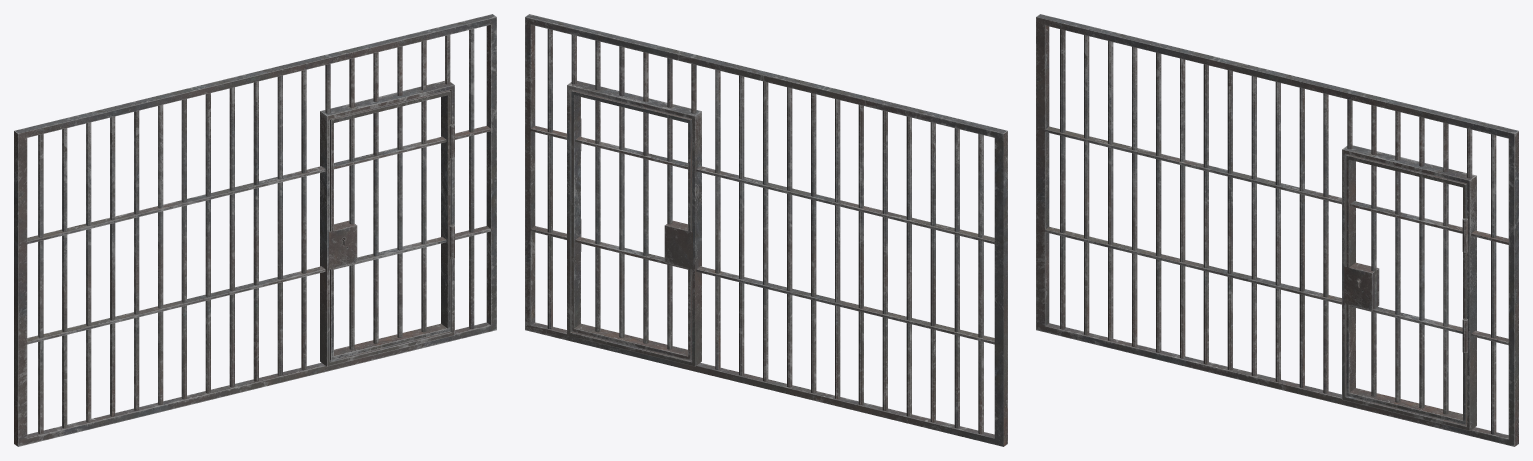
File: metal_jail_grate.glb
3 views of the same model, side by side, from view 1: azimuth 30°, elevation 25°; view 2: azimuth 150°, elevation 25°; view 3: azimuth 330°, elevation 25° (orthographic).
Visible parts, largest first — view 1: final; view 2: final; view 3: final.
Boxes of the visible parts, x1,y1,x2,y2 form: final: [14, 14, 496, 446]; final: [525, 14, 1007, 446]; final: [1036, 14, 1518, 446].
Size of the model in its own units: 4 by 2.5 by 0.1344.
Materials: 1 (1 with a texture image).
